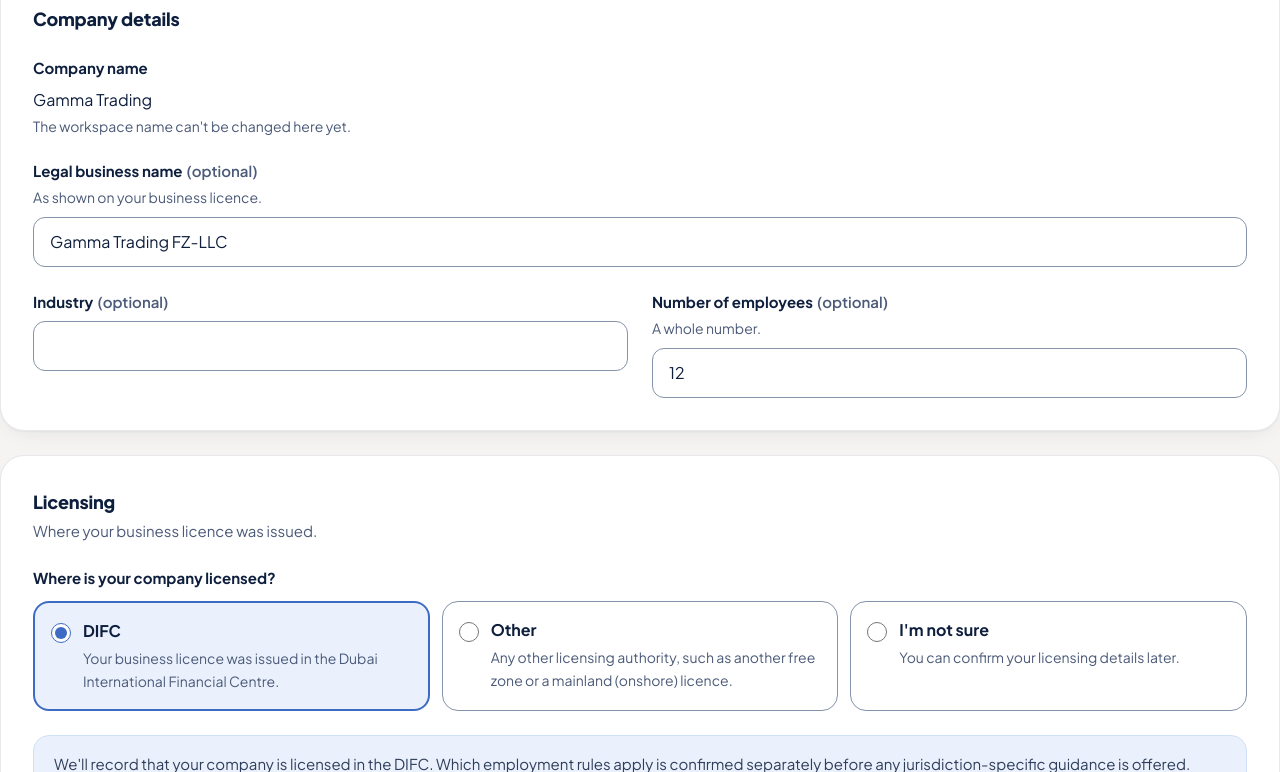
Test case: CompanySettingsForm › saves only the changed field, then shows 'saved' with the API's answer
Type "Retail" into the field labelled "Industry(optional)" at [330, 346], box [33,321,628,371]
(page scrolled)
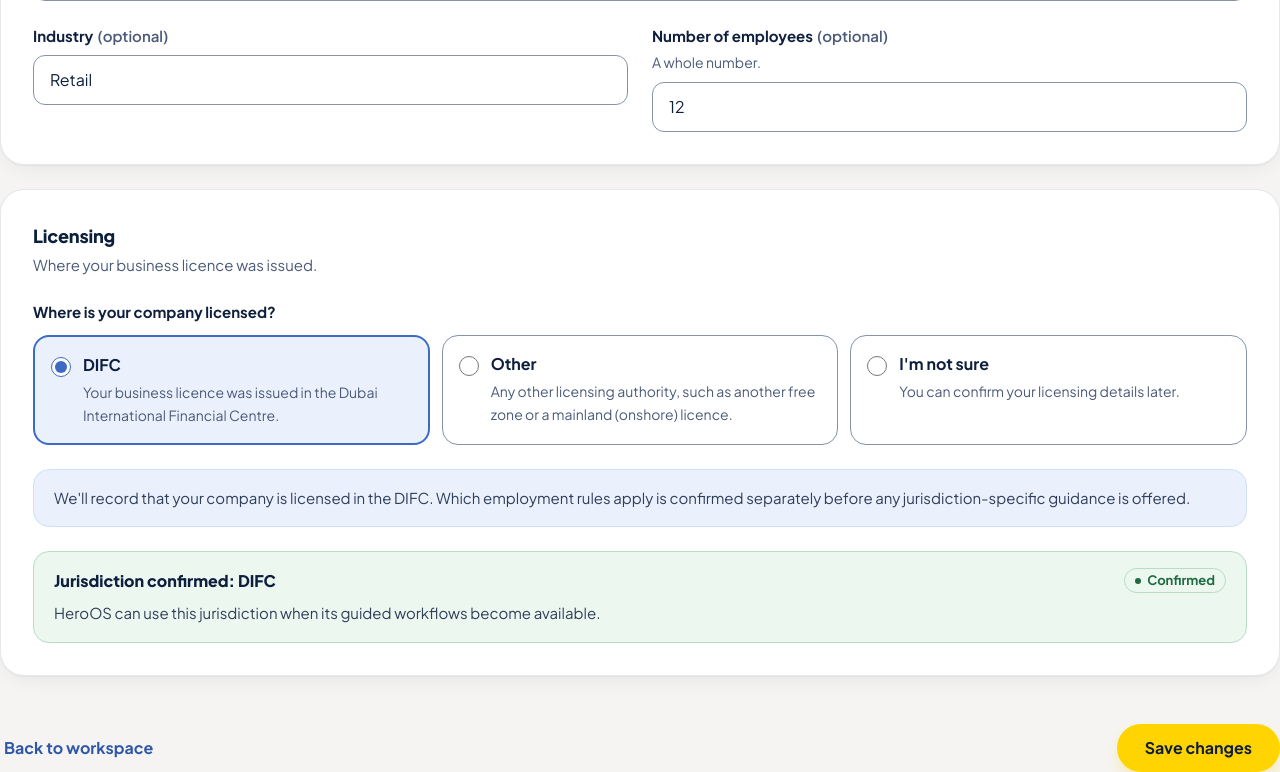
Click the button "Save changes" at [1198, 748], box [1117,724,1279,771]
(page scrolled)
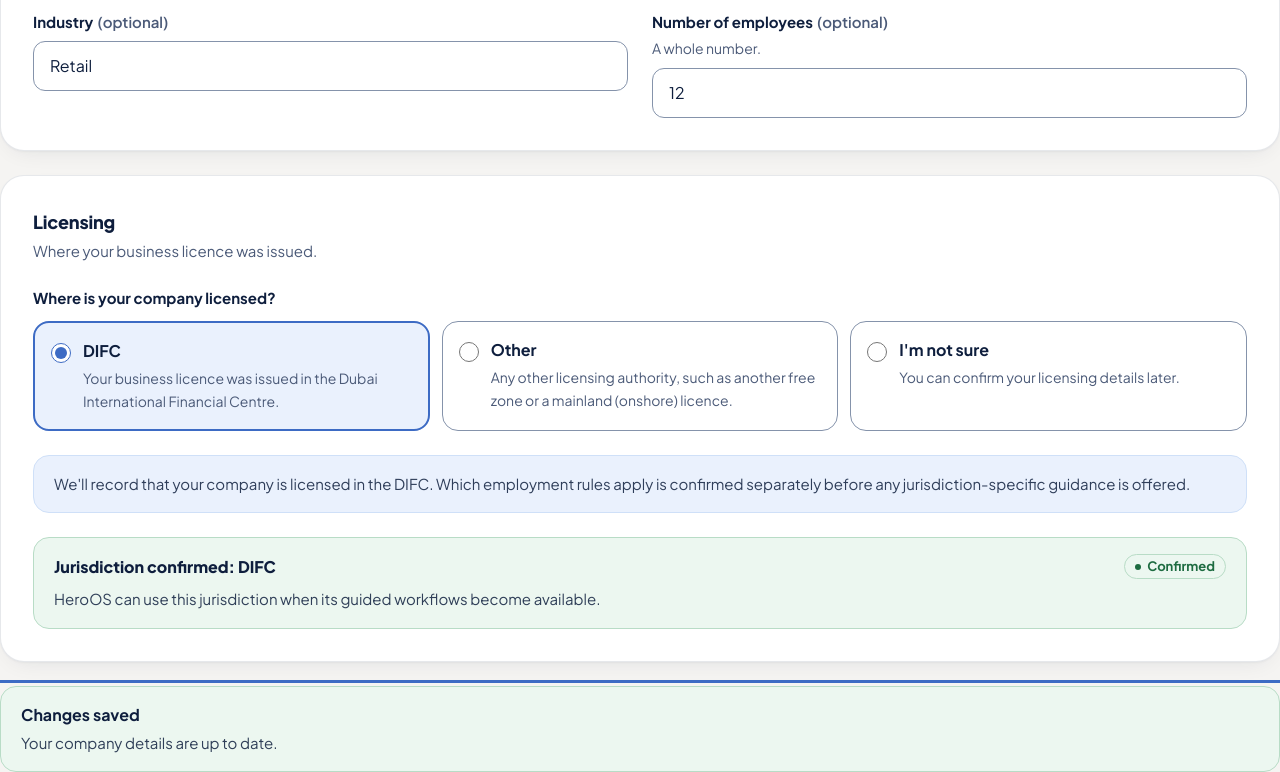
Now the message shows "Changes saved", box [21,704,140,725]
